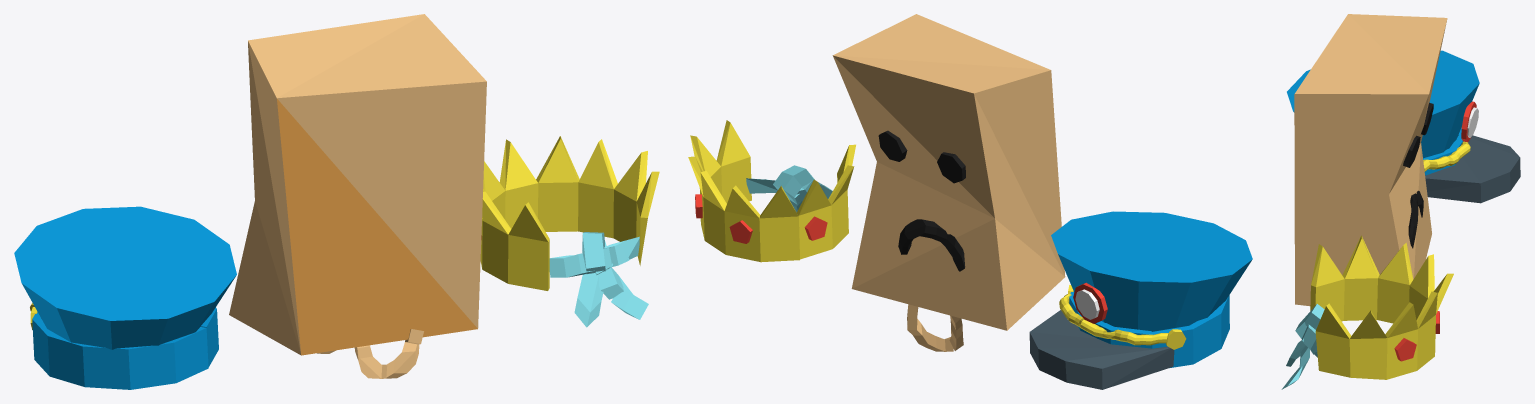
Rendered from f31GqHEqz6N.glb.
3 renders of one model, left to right at view 1: azimuth 30°, elevation 25°; view 2: azimuth 150°, elevation 25°; view 3: azimuth 270°, elevation 25°, orthographic. The views are drawn at different scales.
Parts seen in each view (by area): view 1: group1826500939, group2061909139, group2143460377; view 2: group1826500939, group2061909139, group2143460377; view 3: group1826500939, group2143460377, group2061909139.
Boxes of the visible parts, x1,y1,x2,y2 form: group1826500939: (229,14,486,378); group2061909139: (14,206,236,389); group2143460377: (480,136,659,327); group1826500939: (832,14,1065,351); group2061909139: (1029,211,1252,389); group2143460377: (688,120,855,262); group1826500939: (1294,14,1447,306); group2143460377: (1281,235,1453,389); group2061909139: (1287,50,1520,203).
Bounding box in the file's own units: 0.5969 × 0.2927 × 0.232.
